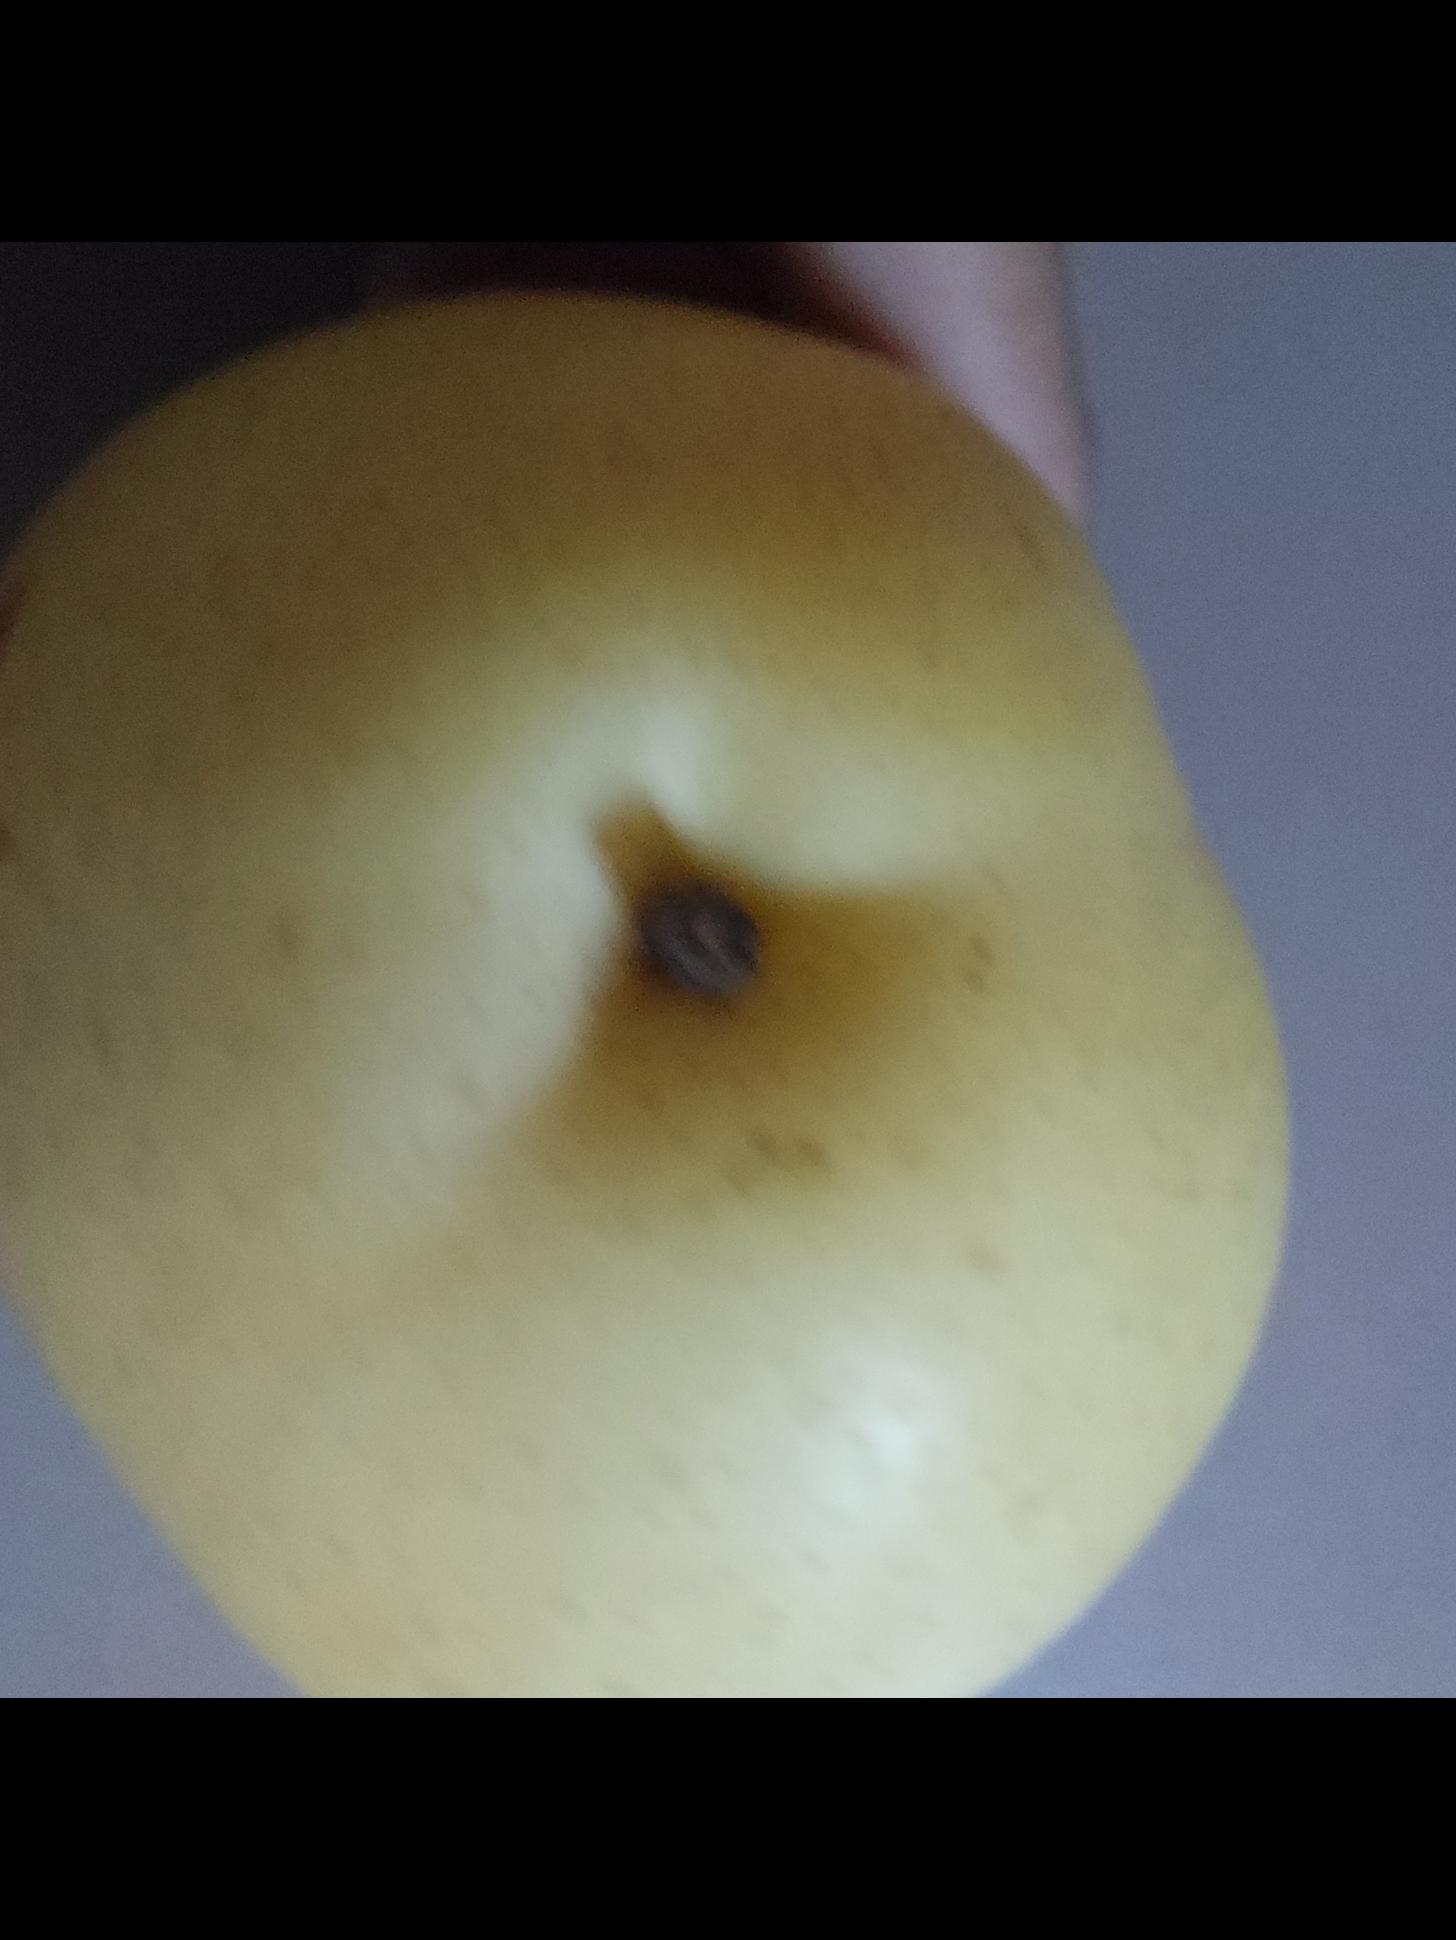Good Pear: (0, 279, 1297, 1698)
